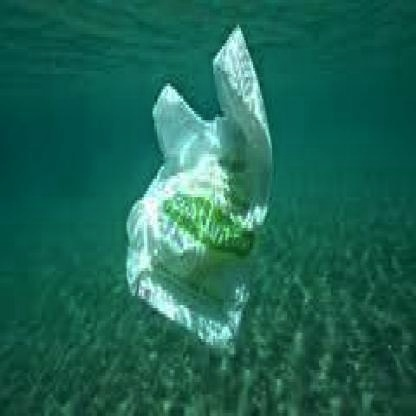pbag: (123, 21, 274, 360)
